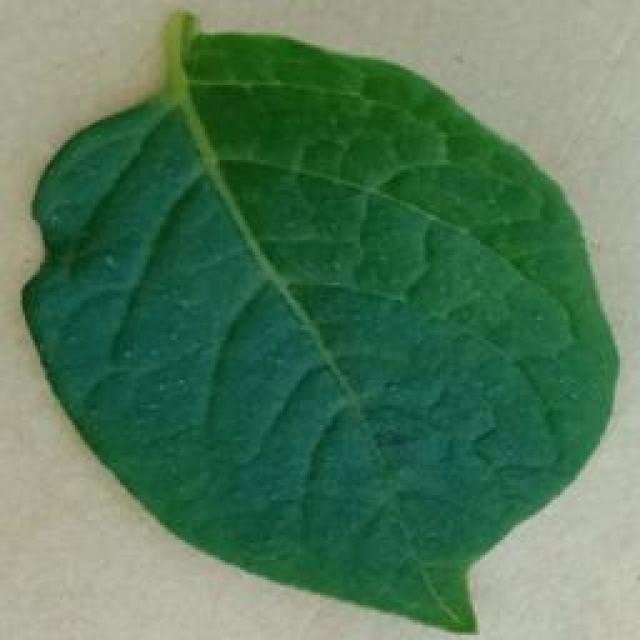Potato_Healthy: (18, 11, 608, 634)
